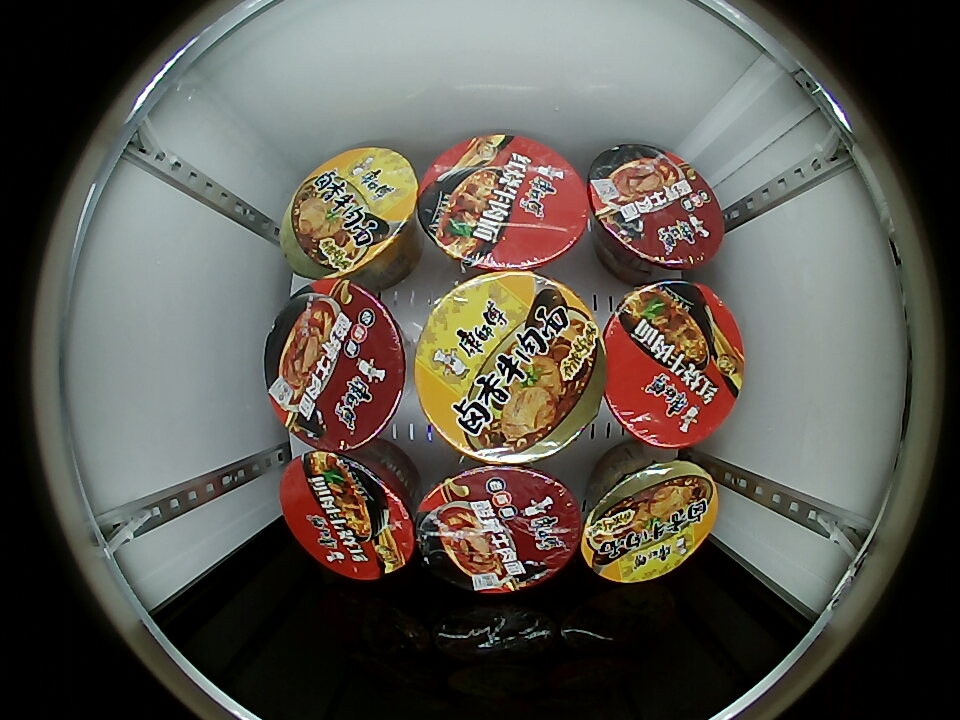hongshaoniurou: (602, 281, 745, 448), (416, 134, 590, 271), (280, 450, 418, 580)
luxiangniurou: (413, 271, 605, 464), (281, 148, 420, 278), (581, 456, 720, 583)
suanlaniurou: (265, 281, 408, 450), (415, 465, 583, 594), (586, 144, 724, 270)
